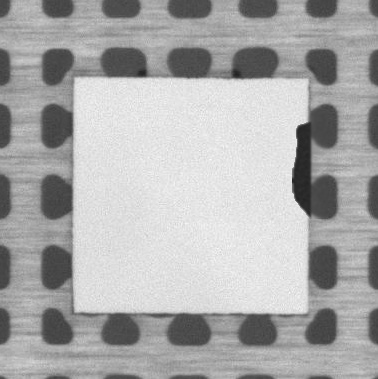DIE_BROKEN: (288, 118, 313, 215)
